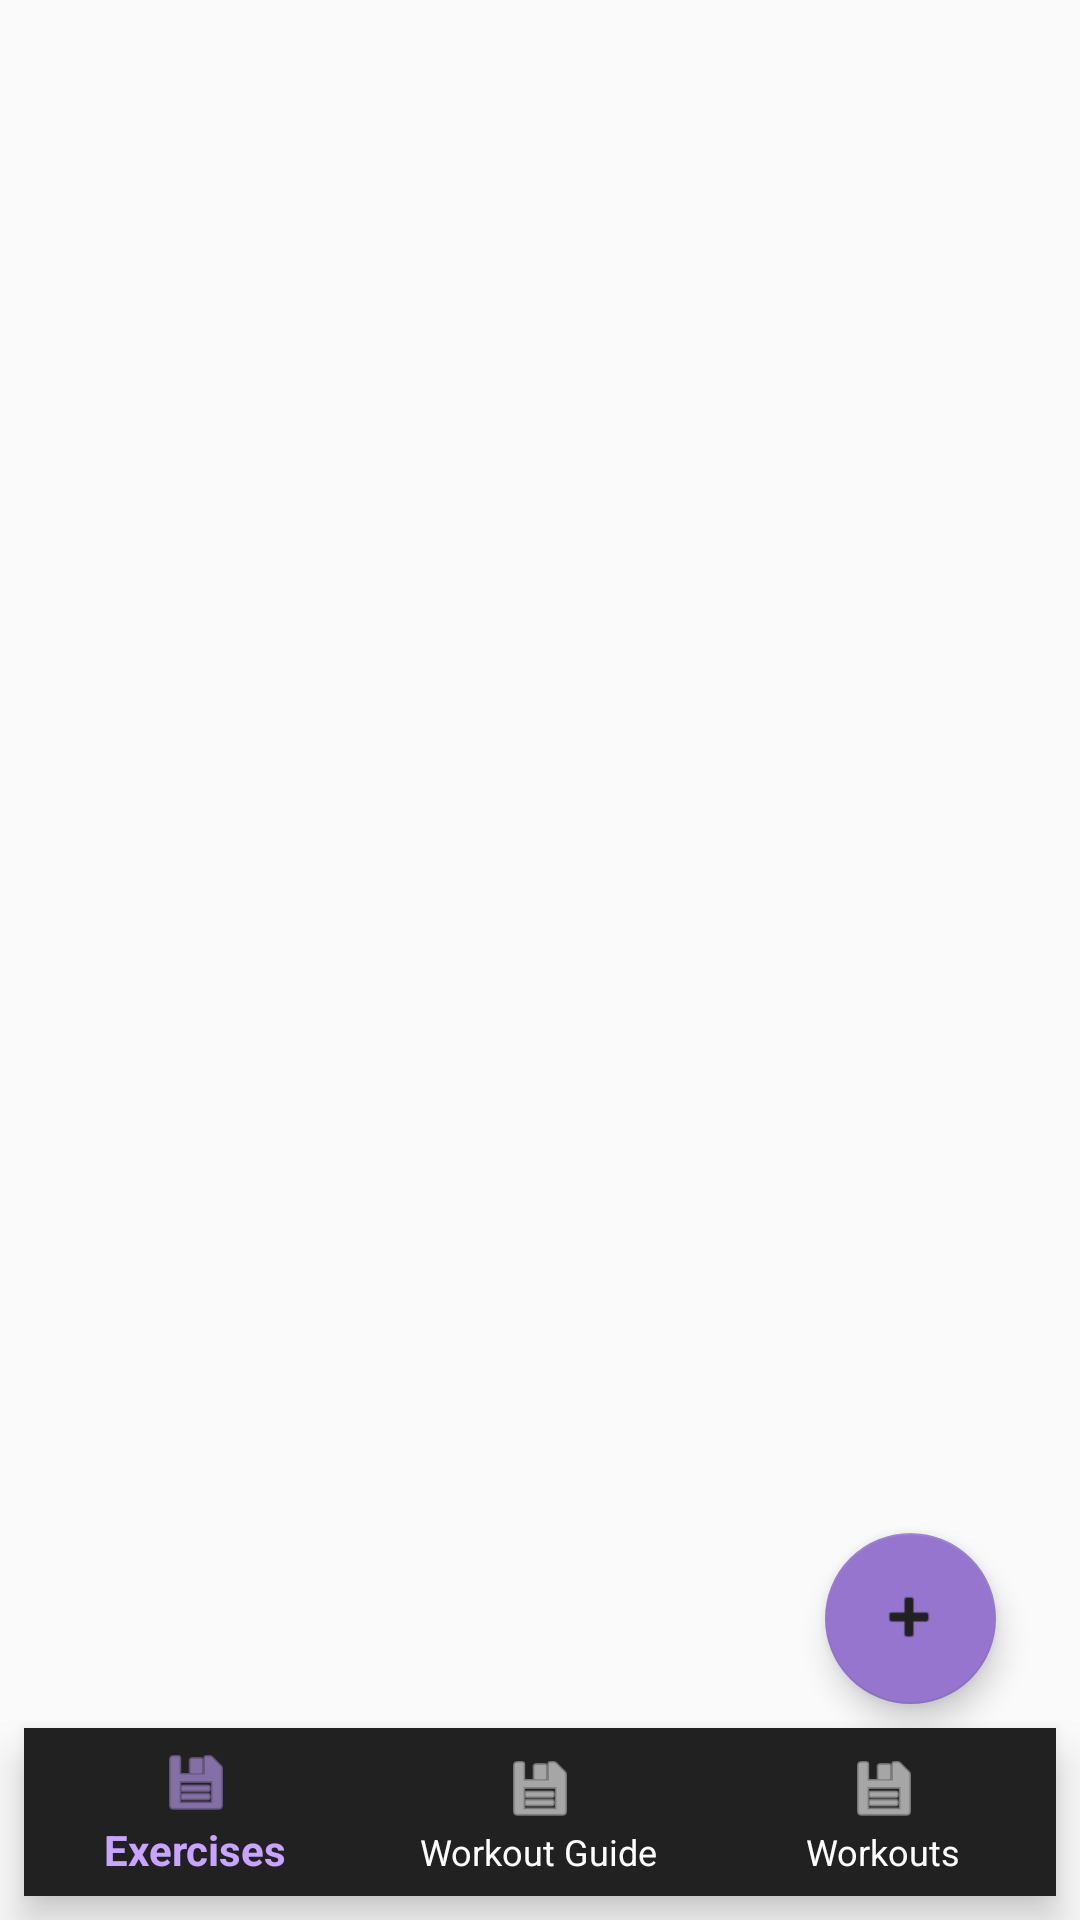

Icon bounding boxes for this 1080px x 1920px phone screenshot, format (x1, y1, x2, y2):
add: (825, 1533, 996, 1704)
